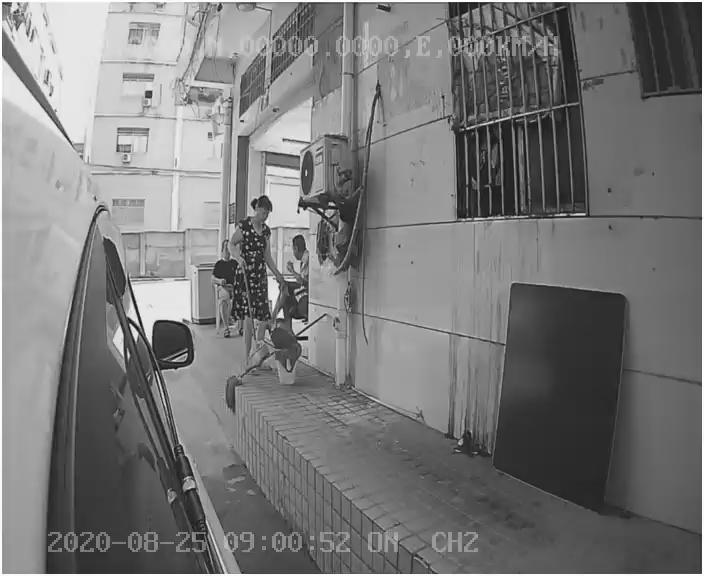person: (217, 197, 283, 334)
